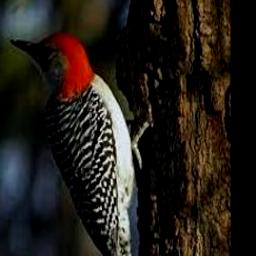Woodpecker: (11, 31, 147, 256)
